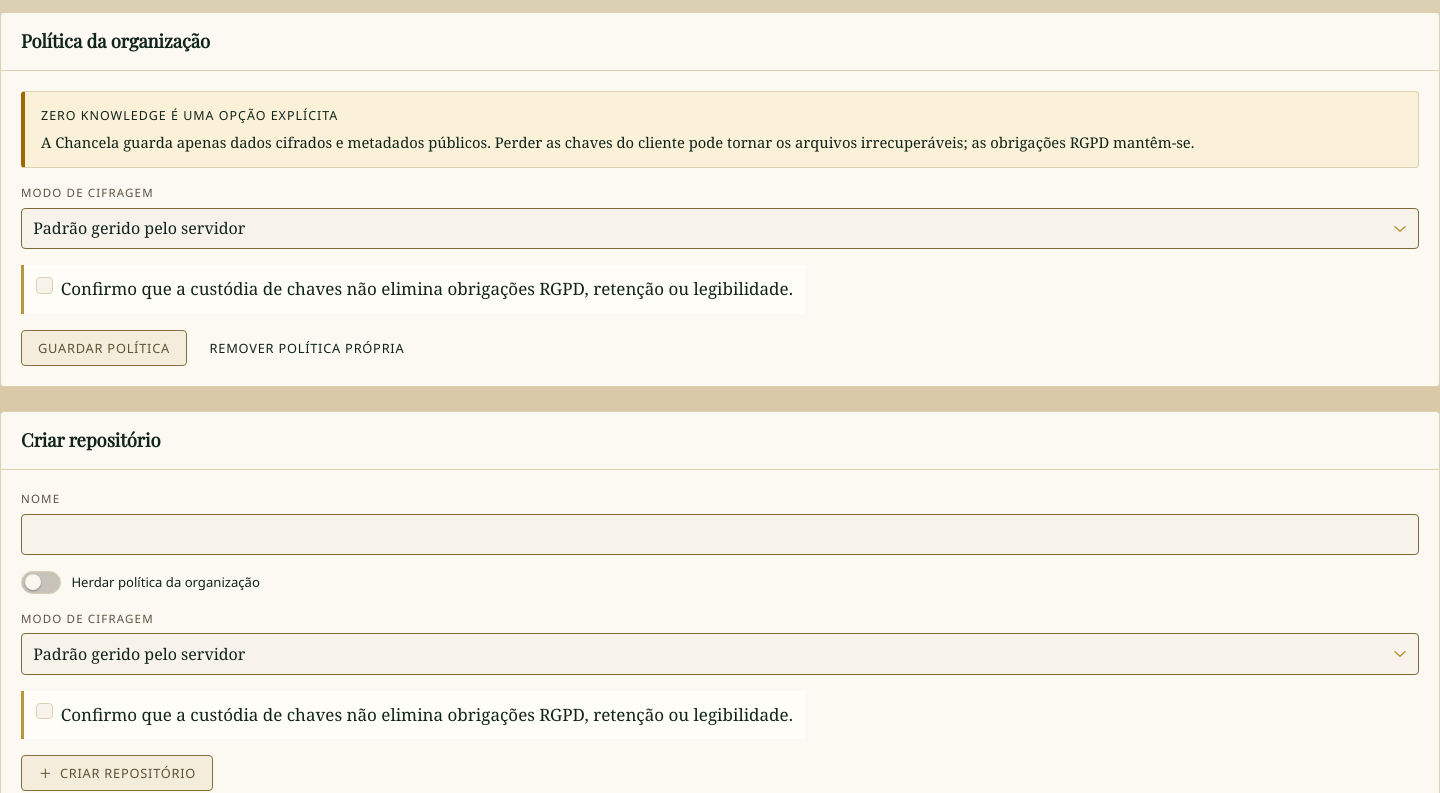
TenantPolicyEditor › refuses a split-recovery plan whose labels do not cover every share
Select "Zero knowledge gerido pelo cliente" in the dropdown labelled "Modo de cifragem" below "Zero knowledge é uma opção explícita" at (720, 228), box [21, 208, 1419, 249]
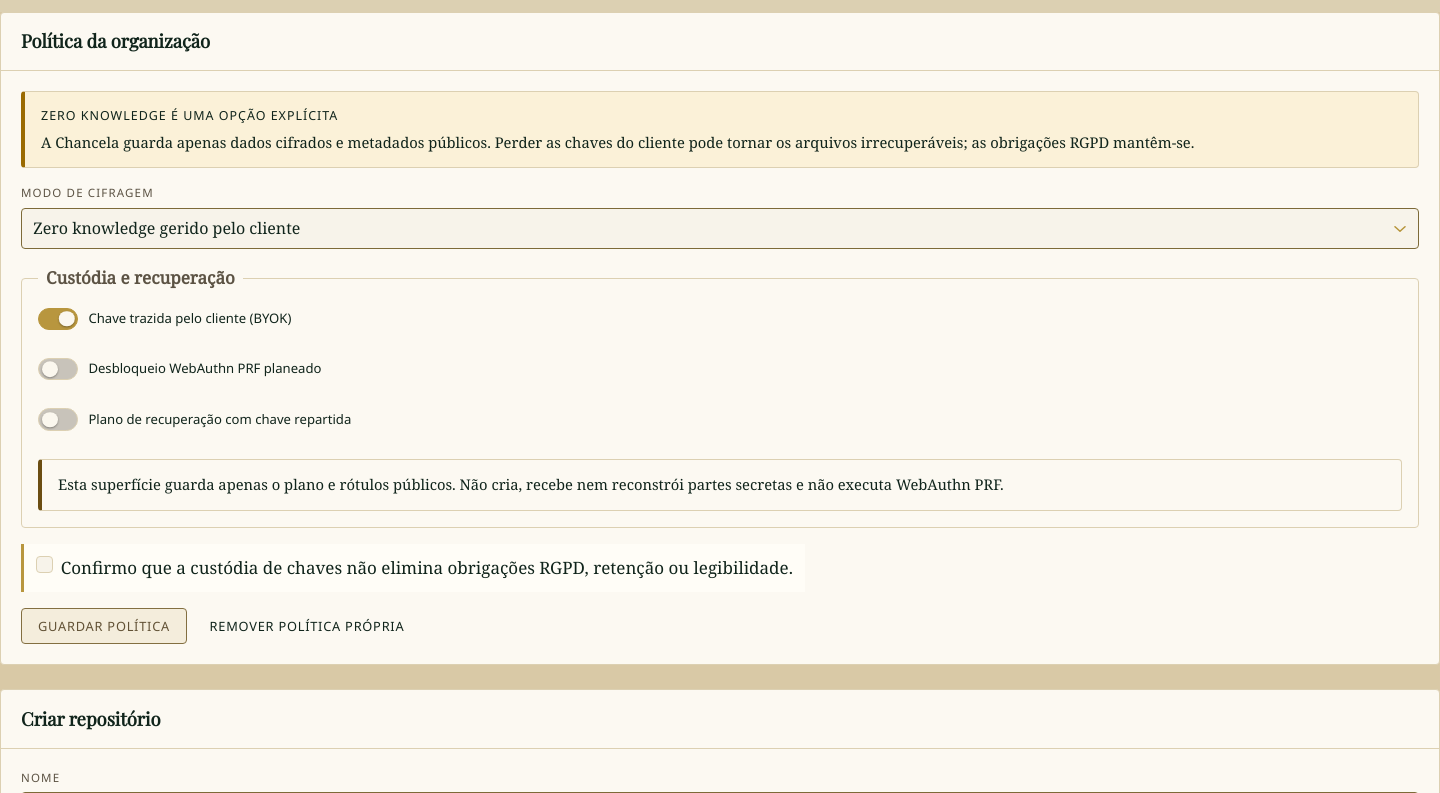
Click the switch labelled "Plano de recuperação com chave repartida" at (195, 420), box [38, 408, 351, 431]
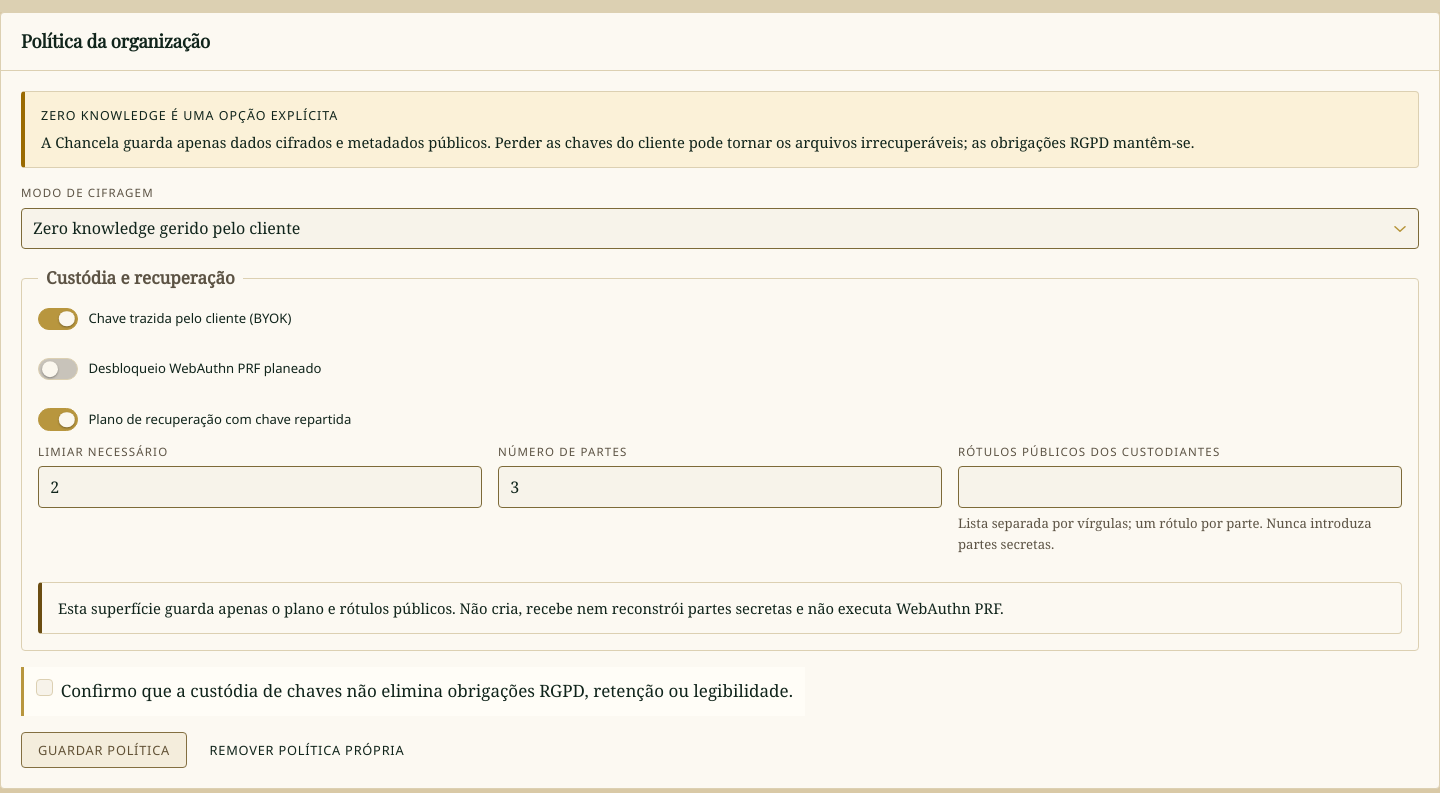
Type "Jurídico, Segurança" into the field labelled "Rótulos públicos dos custodiantes" at (1180, 487), box [958, 466, 1402, 508]
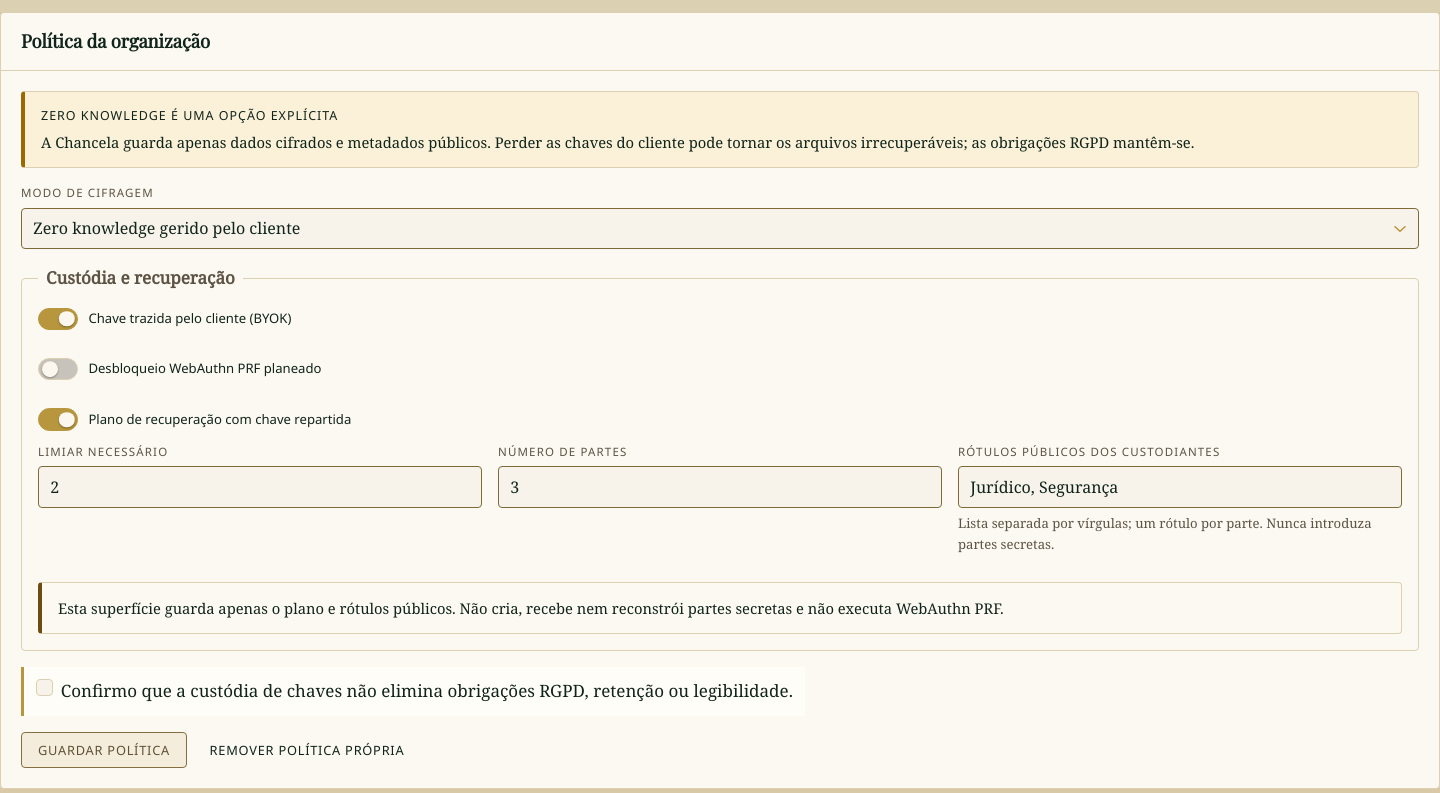
Click the checkbox named "Confirmo que a custódia de chaves não elimina obrigações RGPD, retenção ou legibilidade." at (44, 688), box [36, 679, 53, 696]
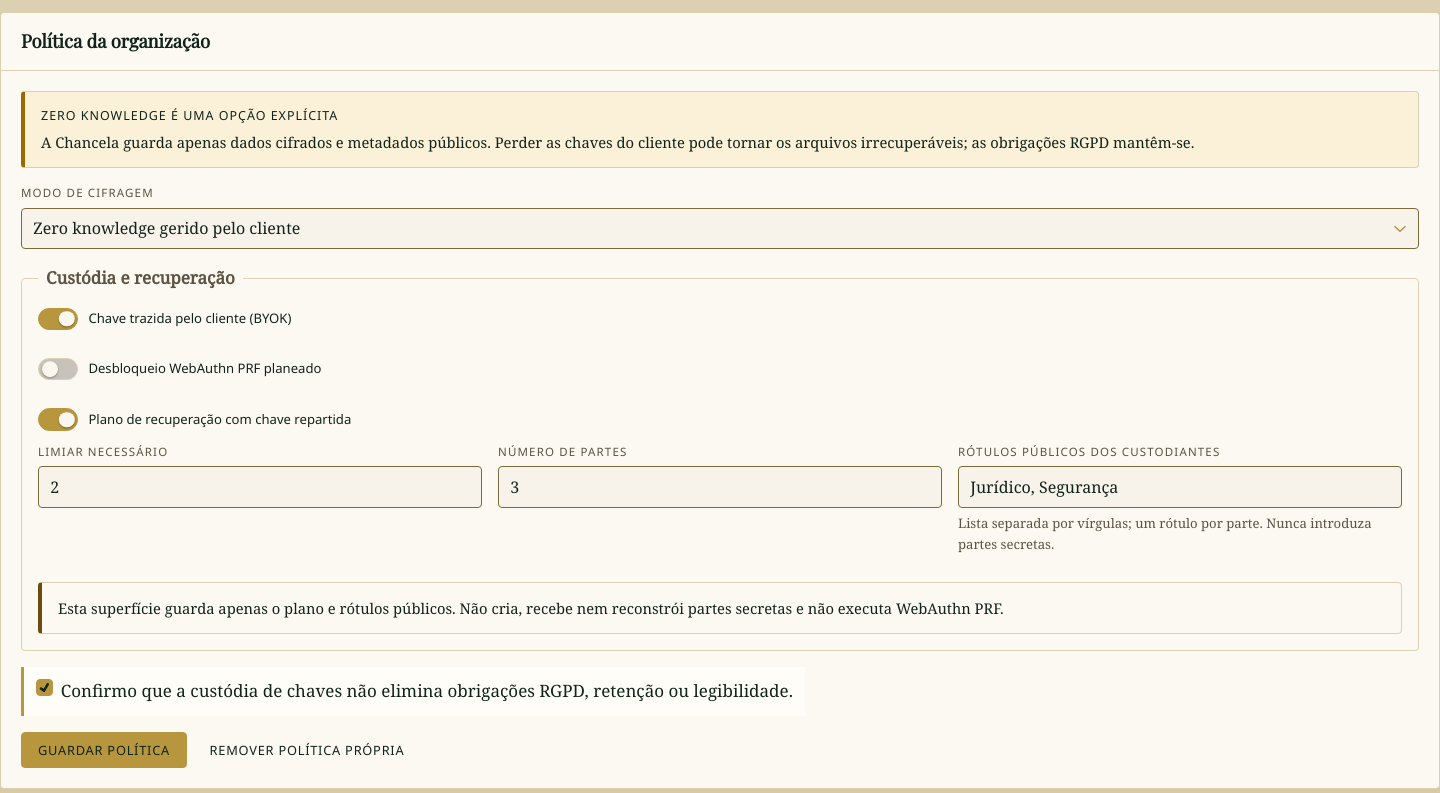
Click the button "Guardar política" at (104, 750), box [21, 732, 187, 768]
(page scrolled)
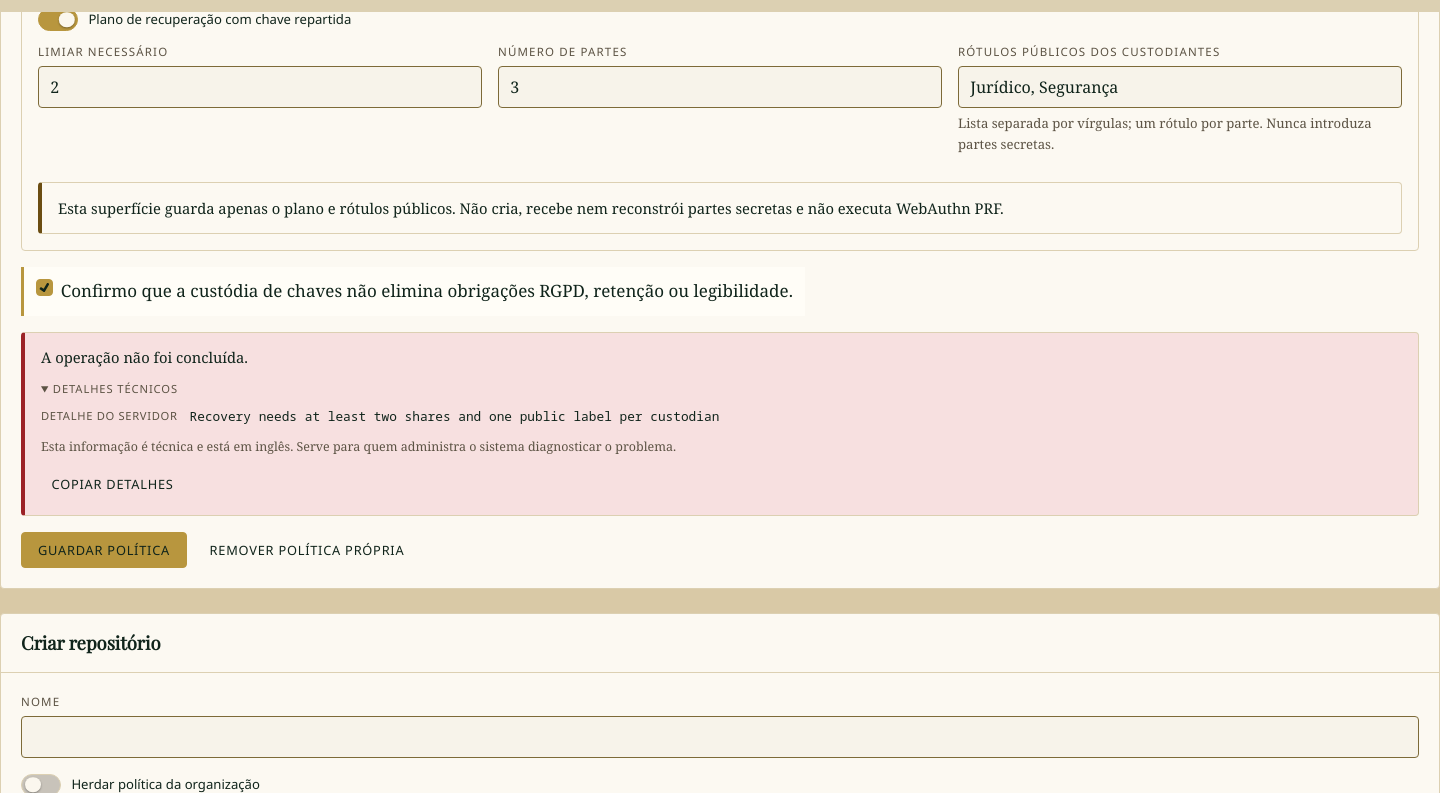
Result: the text "Recovery needs at least two shares and one public label per custodian" is shown at [190, 407, 719, 425]
